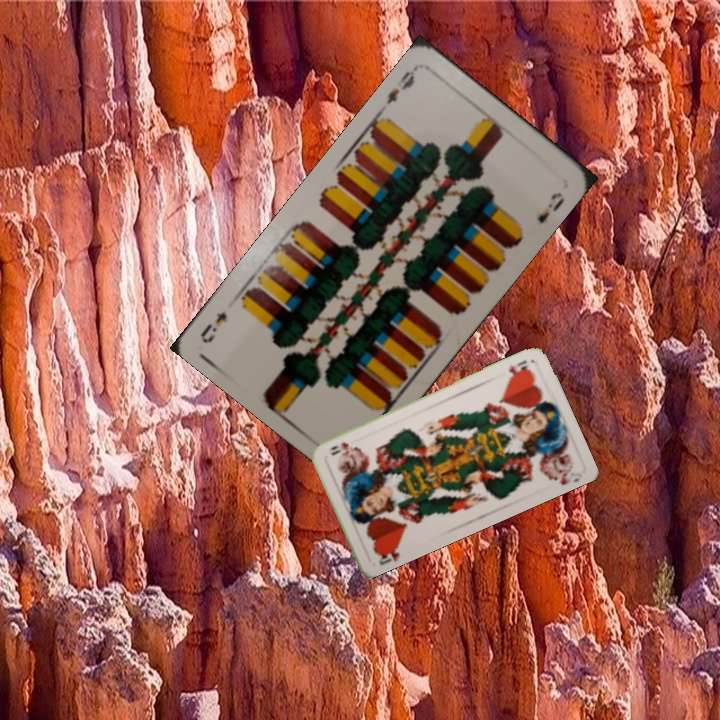E9: (382, 64, 420, 108)
HO: (372, 540, 403, 568), (503, 356, 532, 381)
